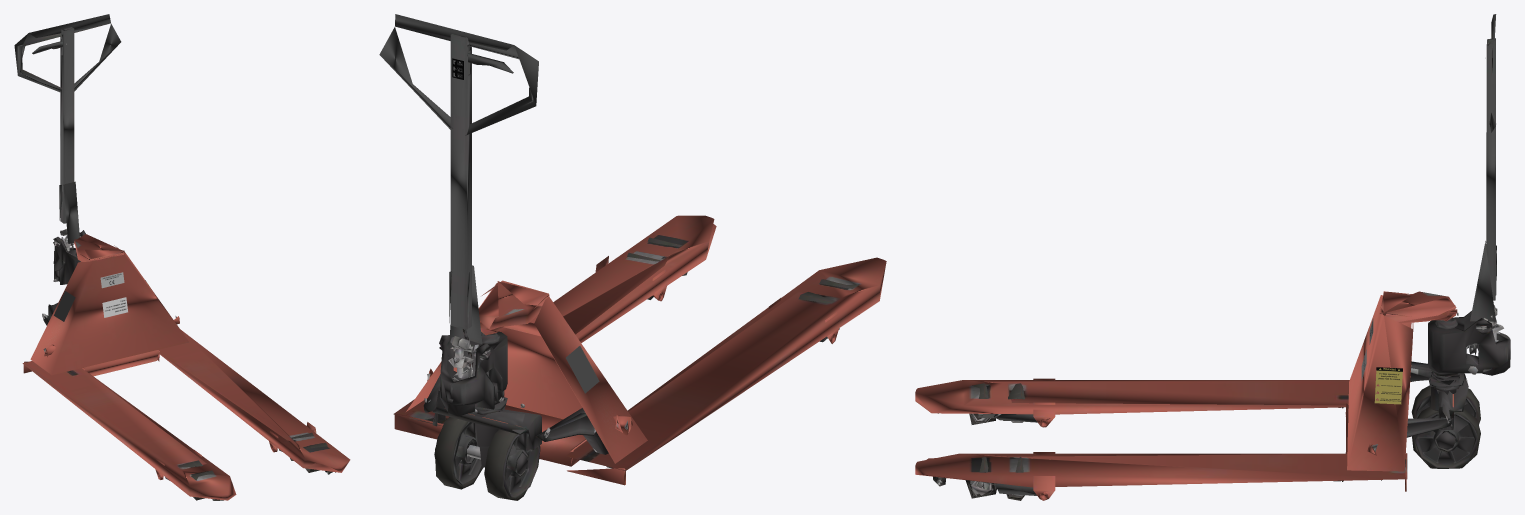
File: palletJack_lowProfile_a01.glb
The picture shows the model from 3 angles, left to right: view 1: azimuth 30°, elevation 25°; view 2: azimuth 150°, elevation 25°; view 3: azimuth 270°, elevation 25°; orthographic projection. The views are drawn at different scales.
Parts seen in each view (by area): view 1: sm_mainbody_a01_mesh_00, sm_handlemain_a01_mesh_00, sm_rotatingpart_a01_mesh_00; view 2: sm_mainbody_a01_mesh_00, sm_handlemain_a01_mesh_00, sm_rotatingpart_a01_mesh_00, sm_backwheel_a01_mesh_00; view 3: sm_mainbody_a01_mesh_00, sm_rotatingpart_a01_mesh_00, sm_handlemain_a01_mesh_00, sm_backwheel_a01_mesh_00, sm_frontwheel2_a01_mesh_00.
Part boxes in pixels (x1,y1,x2,y2): sm_mainbody_a01_mesh_00: (22, 234, 350, 500); sm_handlemain_a01_mesh_00: (14, 14, 121, 250); sm_rotatingpart_a01_mesh_00: (53, 229, 85, 284); sm_mainbody_a01_mesh_00: (393, 215, 886, 485); sm_handlemain_a01_mesh_00: (379, 14, 538, 367); sm_rotatingpart_a01_mesh_00: (439, 331, 507, 467); sm_backwheel_a01_mesh_00: (434, 417, 540, 500); sm_mainbody_a01_mesh_00: (915, 291, 1468, 500); sm_rotatingpart_a01_mesh_00: (1428, 305, 1510, 394); sm_handlemain_a01_mesh_00: (1470, 14, 1496, 321); sm_backwheel_a01_mesh_00: (1411, 385, 1480, 468); sm_frontwheel2_a01_mesh_00: (965, 383, 996, 498).
Size of the model in its own units: 0.644 by 1.26 by 1.62.
2 materials, 2 textured.
